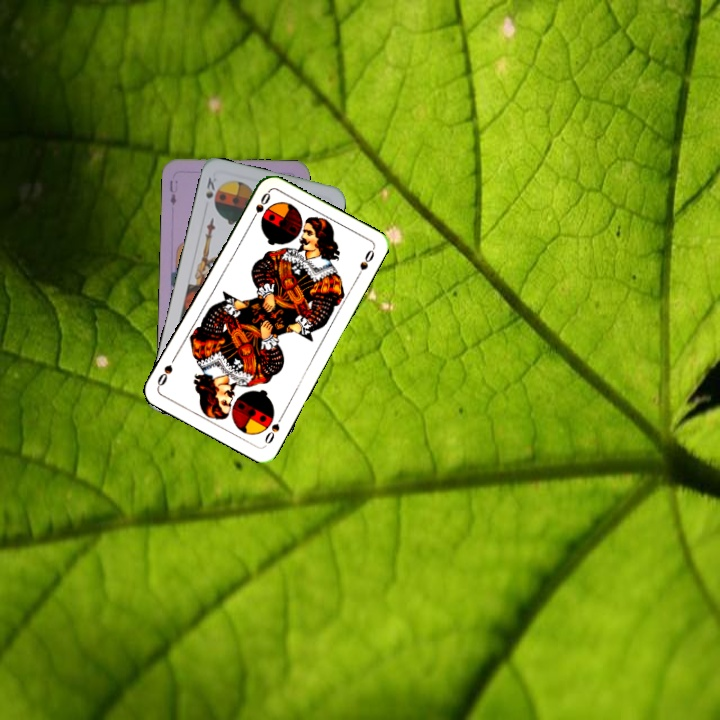EU: (166, 176, 180, 208)
SK: (201, 173, 220, 201)
SO: (247, 188, 273, 225), (260, 410, 286, 447)
